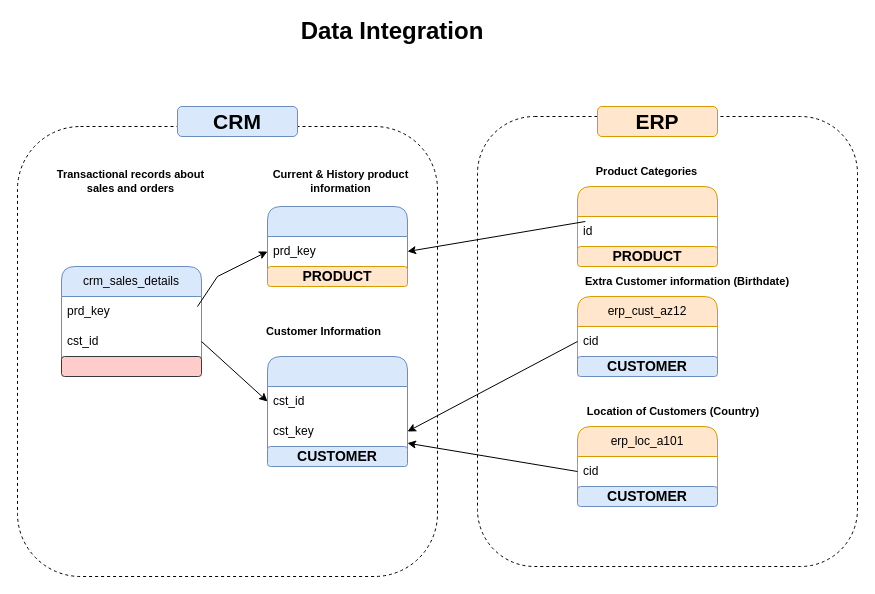
Image size: 875x594. Some labels were removed from this diagram. Each missing label, with the box of its shape:
crm_cust_info: (266, 356, 408, 466)
crm_prd_info: (266, 206, 408, 286)
erp_px_cat_g1v2: (576, 186, 718, 266)
SALES: (60, 356, 202, 376)
